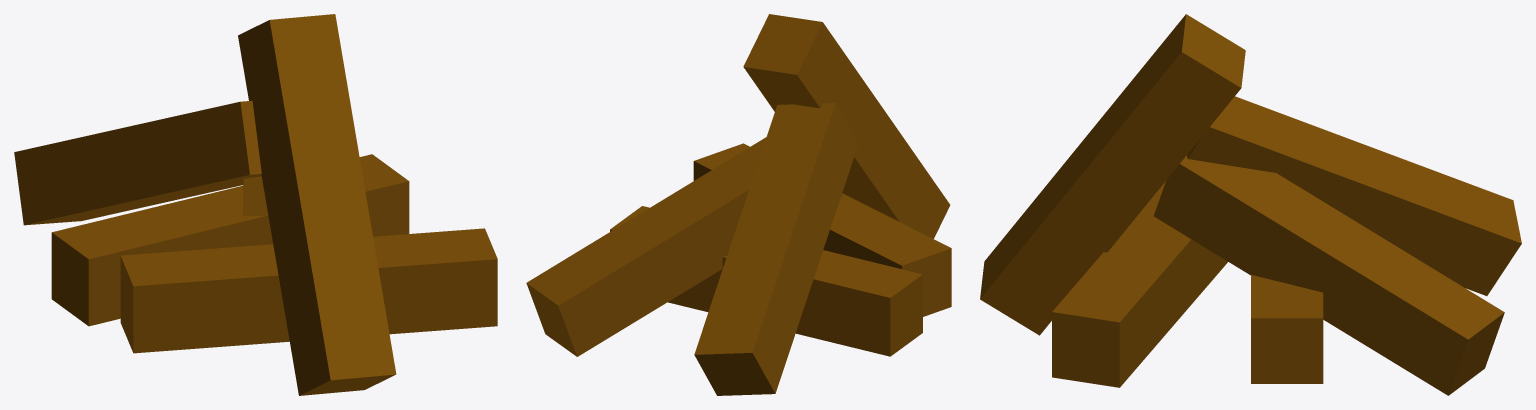
The model's file is FireLogs.FBX.
3 renders of one model, left to right at view 1: azimuth 30°, elevation 25°; view 2: azimuth 150°, elevation 25°; view 3: azimuth 270°, elevation 25°, orthographic. The views are drawn at different scales.
Parts seen in each view (by area): view 1: Log004, Log001, Log003, Log, Log002; view 2: Log003, Log002, Log004, Log, Log001; view 3: Log002, Log004, Log003, Log001, Log.
Part boxes in pixels (x1,y1,x2,y2): Log004: [238, 14, 396, 395]; Log001: [120, 228, 497, 353]; Log003: [14, 100, 261, 225]; Log: [51, 154, 409, 326]; Log002: [243, 176, 268, 215]; Log003: [694, 103, 858, 395]; Log002: [526, 137, 842, 356]; Log004: [743, 14, 950, 238]; Log: [610, 206, 922, 356]; Log001: [693, 143, 951, 316]; Log002: [1154, 155, 1504, 395]; Log004: [980, 14, 1245, 335]; Log003: [1187, 96, 1521, 295]; Log001: [1052, 181, 1227, 387]; Log: [1251, 274, 1323, 383].
Bounding box in the file's own units: 10.66 × 15.02 × 9.55.
